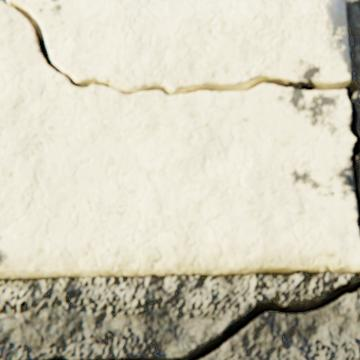broken_brick: (0, 1, 359, 278), (14, 0, 351, 90)
crack: (0, 0, 359, 233), (132, 280, 359, 359), (51, 357, 69, 359)
